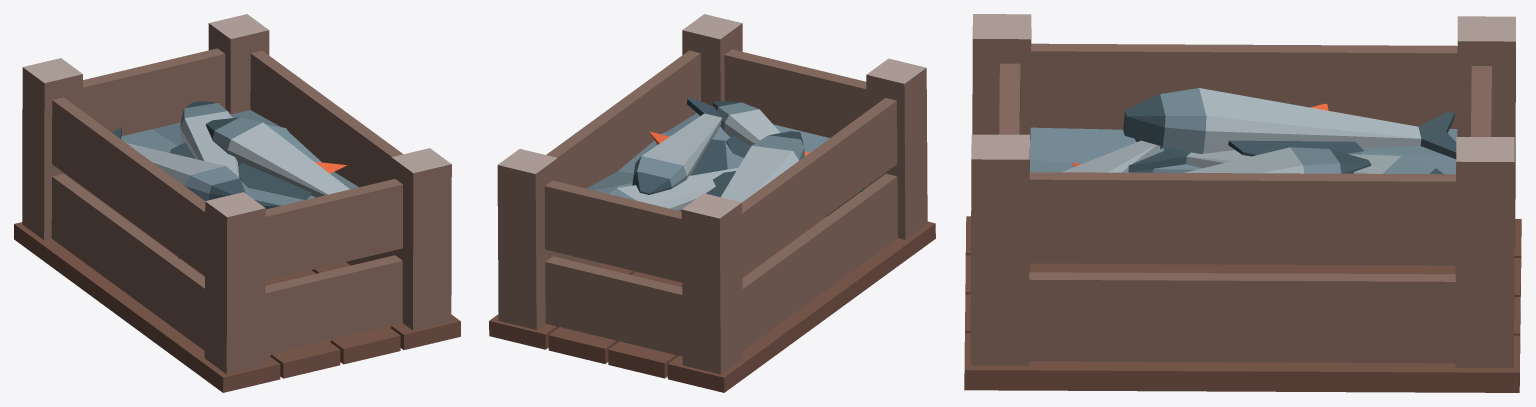
File: case_002.glb
The picture shows the model from 3 angles, left to right: view 1: azimuth 30°, elevation 25°; view 2: azimuth 150°, elevation 25°; view 3: azimuth 270°, elevation 25°; orthographic projection. The views are drawn at different scales.
Parts seen in each view (by area): view 1: case_002; view 2: case_002; view 3: case_002.
Boxes of the visible parts, x1,y1,x2,y2 form: case_002: (14,14,460,392); case_002: (489,14,935,392); case_002: (964,14,1521,392).
Bounding box in the file's own units: 0.6585 × 0.4597 × 1.01.
Materials: 1 (1 with a texture image).
